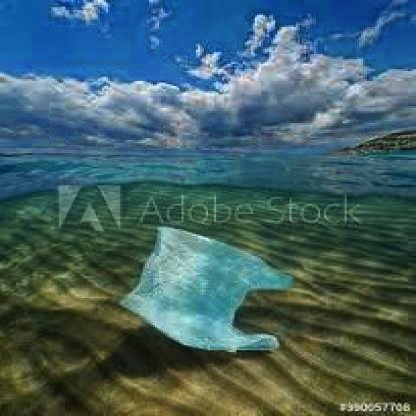pbag: (120, 226, 296, 354)
